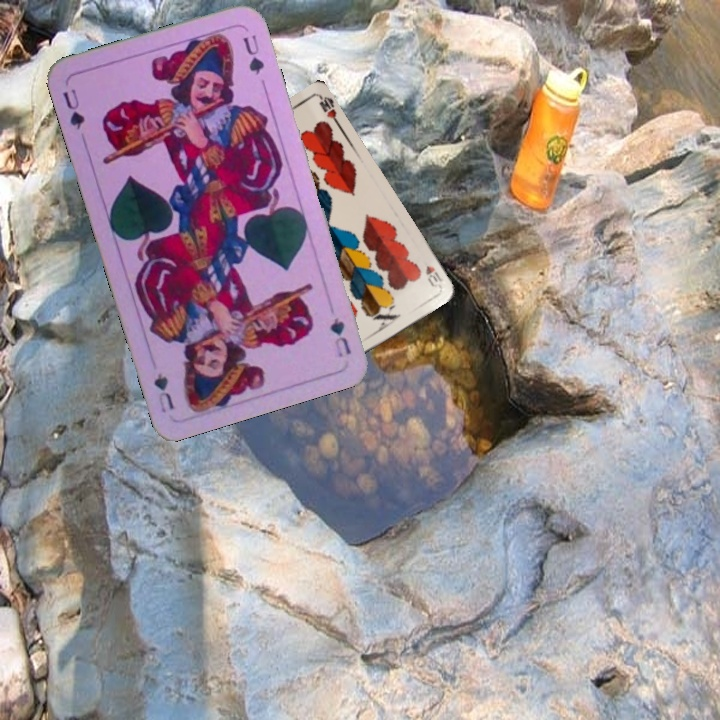GU: (59, 84, 88, 133), (326, 314, 354, 360)
H10: (421, 262, 446, 290)
